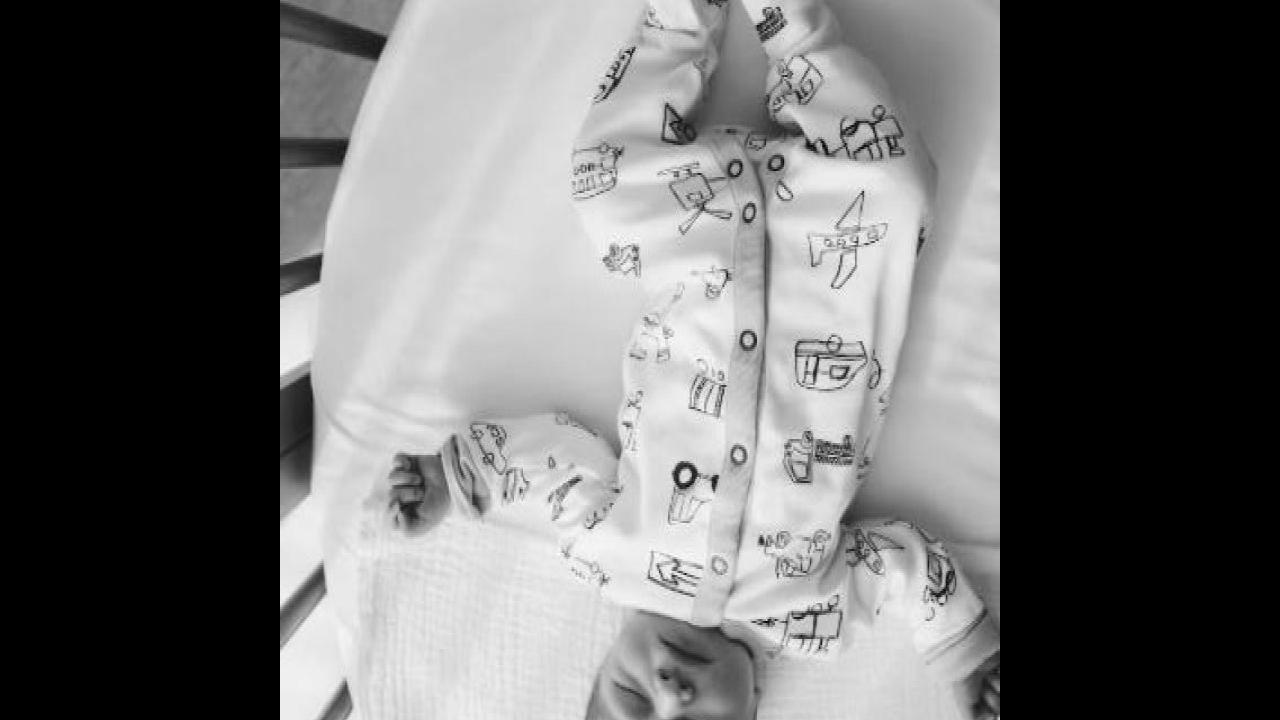hand: (386, 446, 448, 538), (948, 622, 1000, 720)
